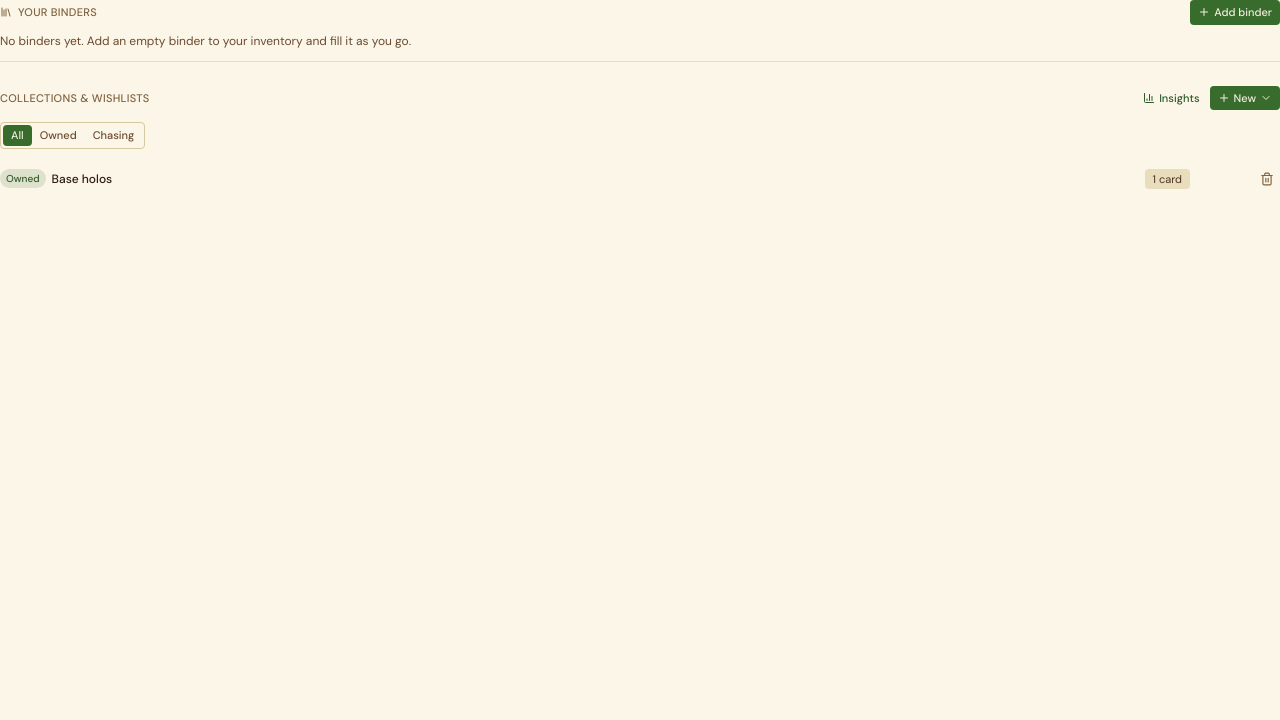
it: LibraryBindersTab › opens a plain collection card-list detail when its row is clicked (#723)
Click the text "Base holos". click: (82, 179)
box: [52,171,112,187]
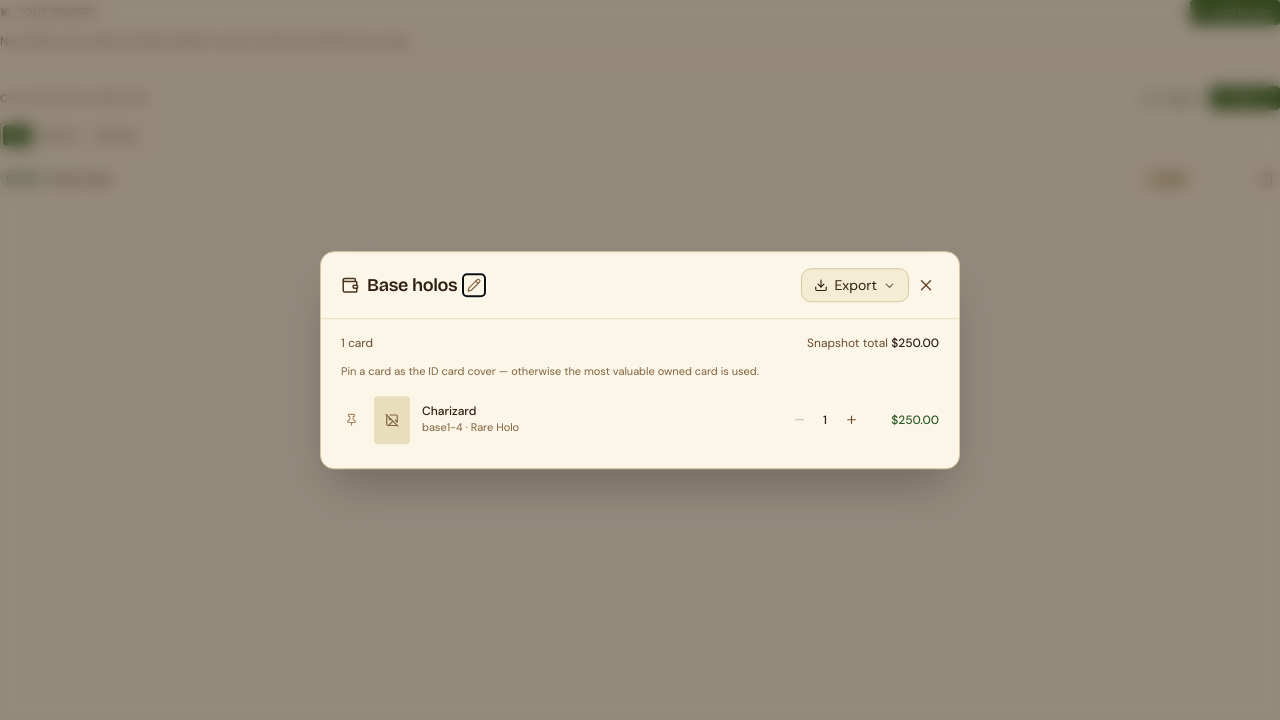
Check: the text "Charizard" is shown, box [422,404,476,420]
